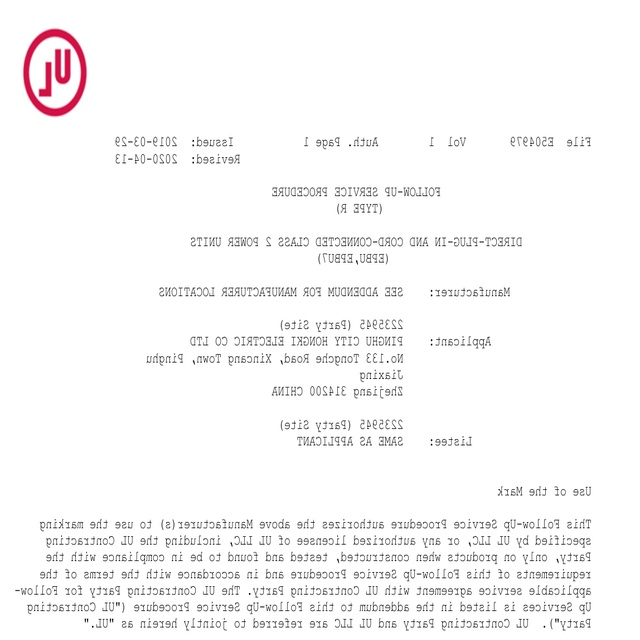ul: (22, 27, 88, 116)
